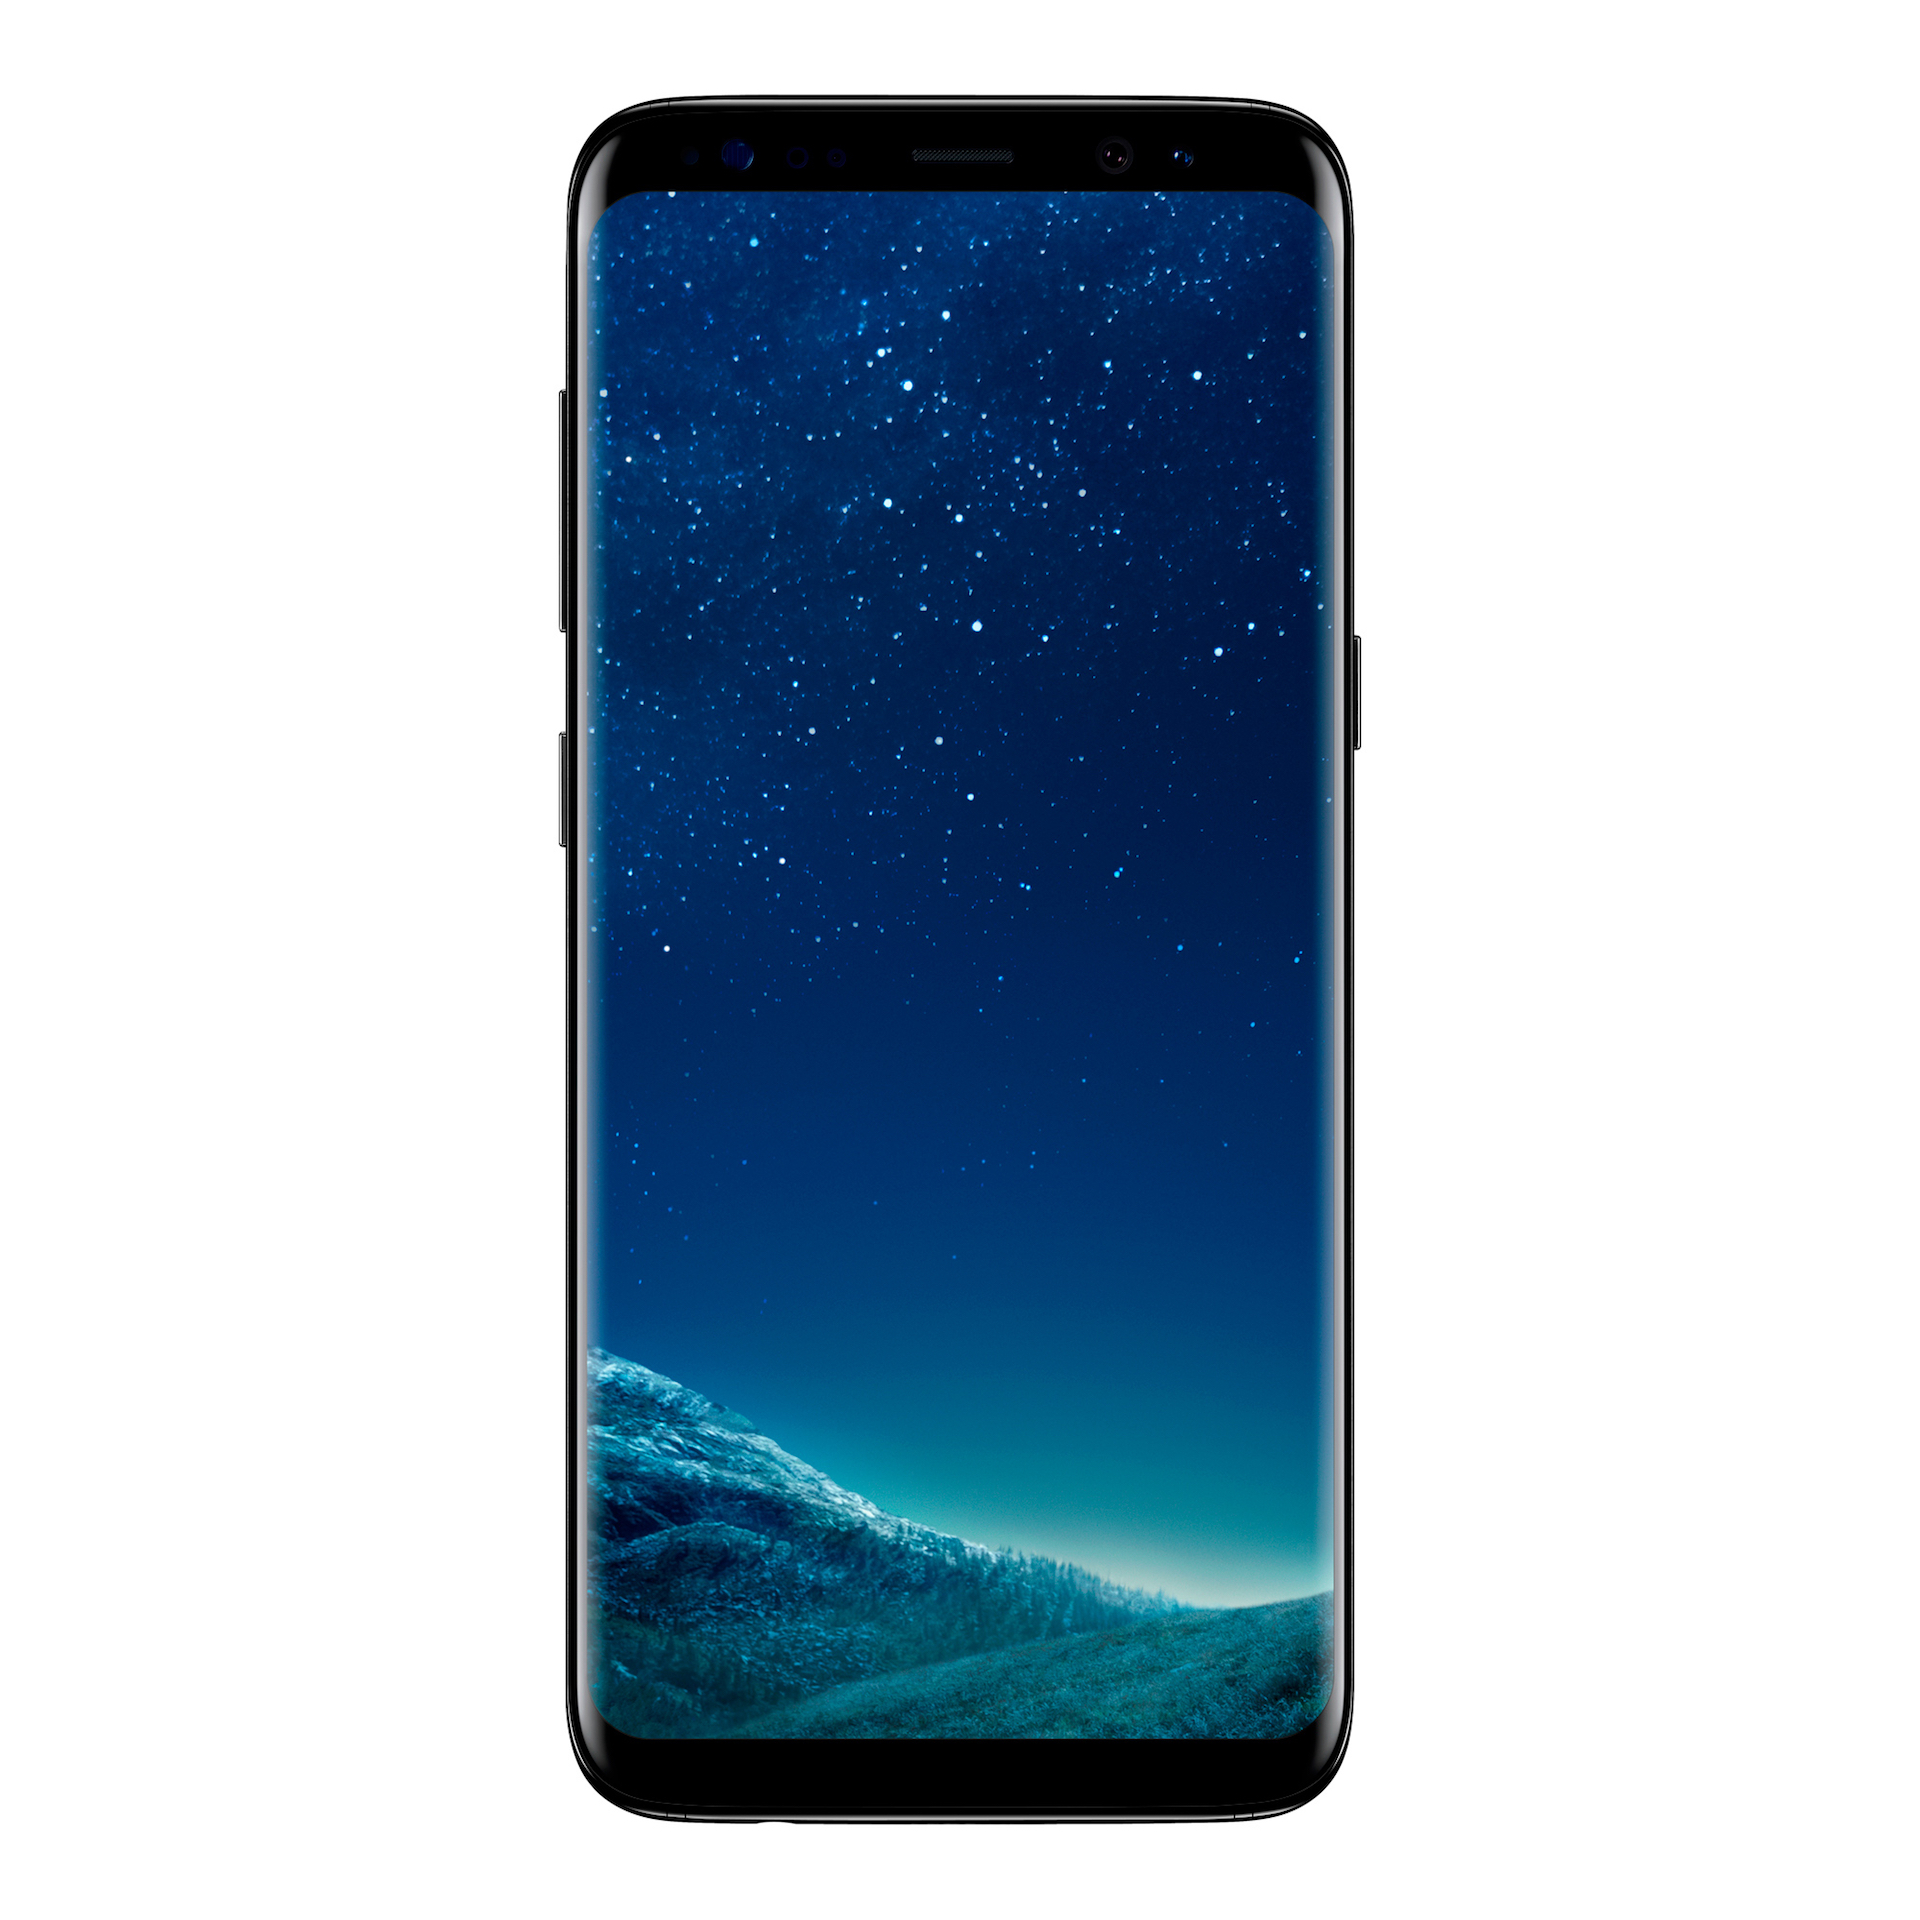smartphone: (550, 88, 1371, 1827)
